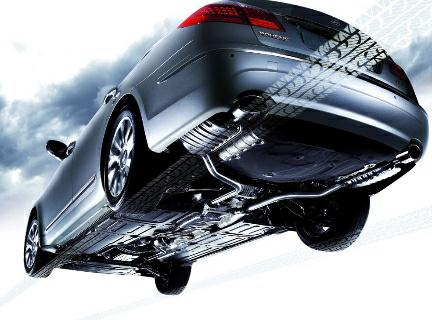现代-劳恩斯: (15, 2, 432, 300)
